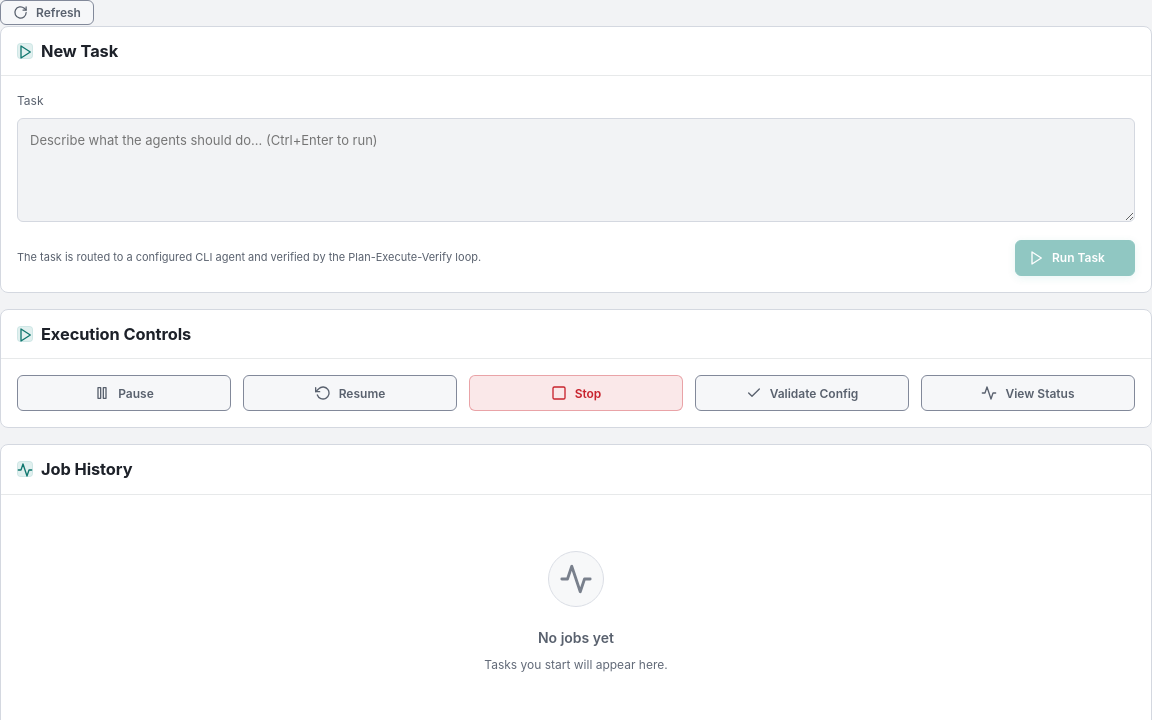
Test: ControlPanel.vue › loads the run timeline when the job carries a trace_id
Type "重构 auth" into the text box with id "maop-task-input" at [576, 170], box [17,118,1135,222]
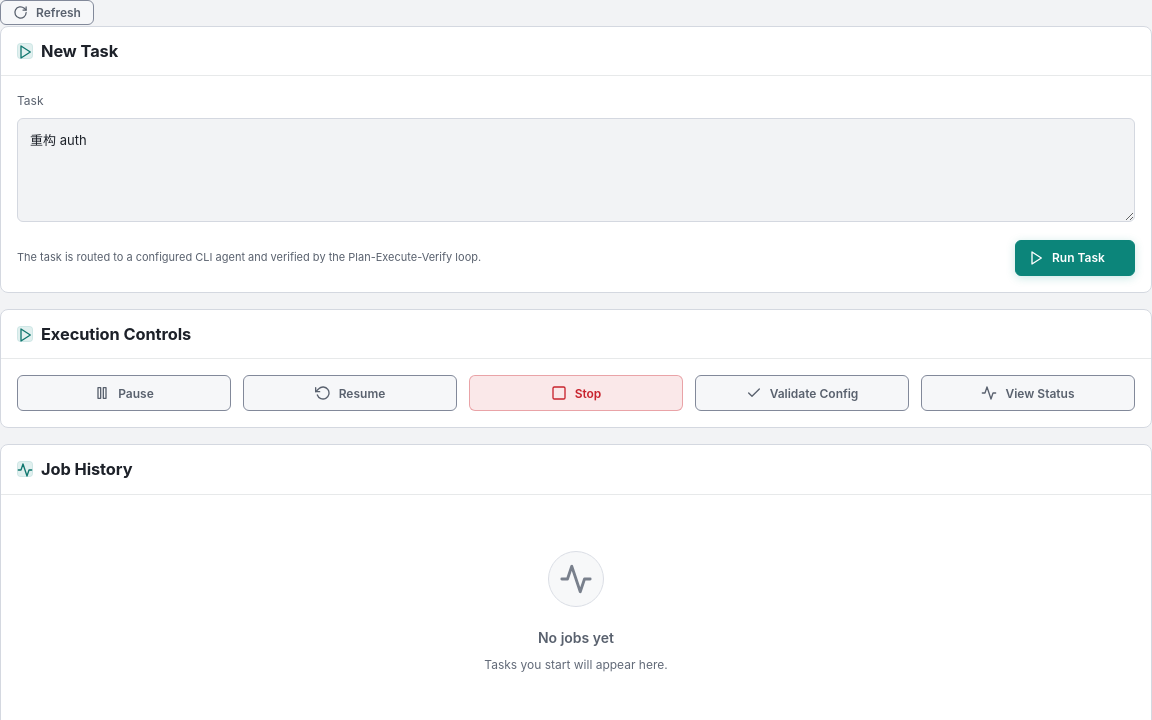
Click the button with class "task-composer__run" at [1075, 258], box [1015,240,1135,276]
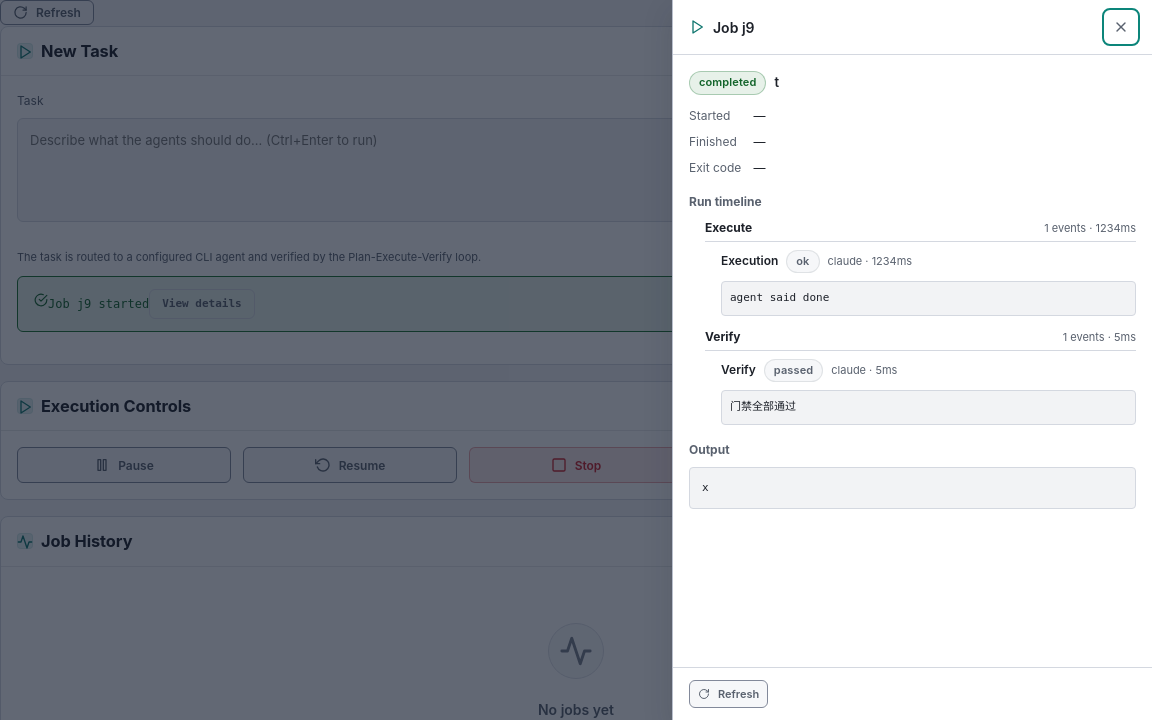
Expected: the element with class "run-timeline" is shown, [689,219,1136,425]
Expected: the element with class "run-timeline" shows "agent said done", [730,291,829,304]
Expected: the element with class "run-timeline" shows "1234ms", [1044,221,1136,235]
